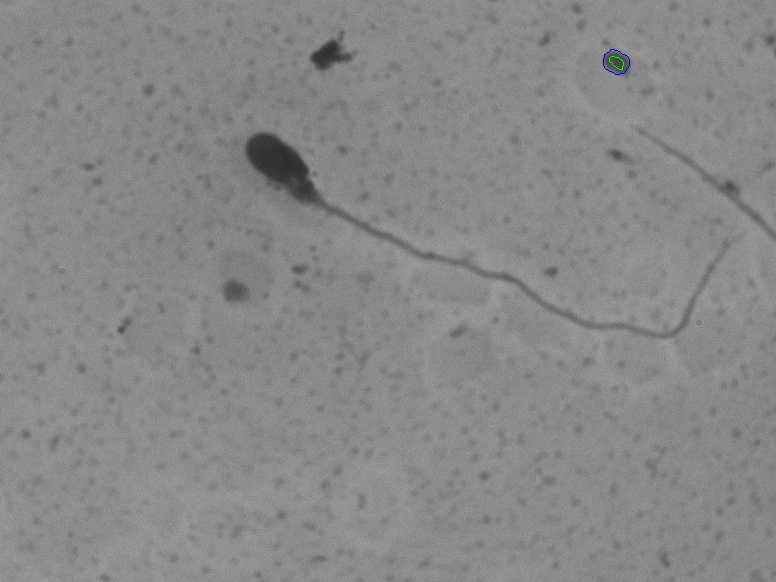Abnormal: (229, 103, 743, 372)
